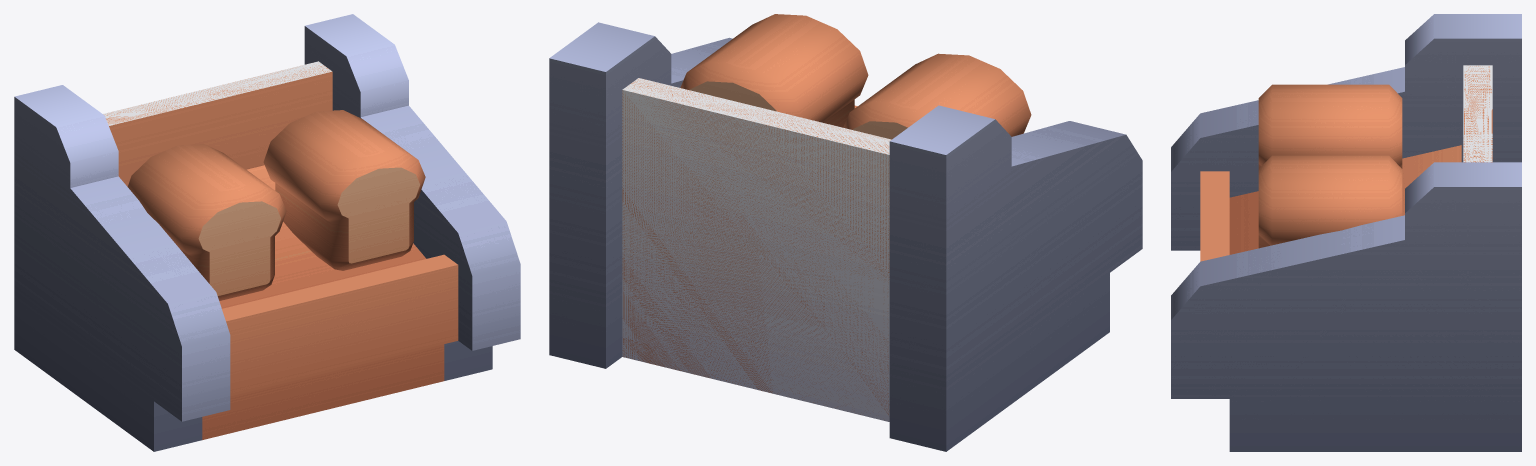
Rendered from display-bread.glb.
The picture shows the model from 3 angles, left to right: view 1: azimuth 30°, elevation 25°; view 2: azimuth 150°, elevation 25°; view 3: azimuth 270°, elevation 25°; orthographic projection. The views are drawn at different scales.
Visible parts, largest first — view 1: display-bread, bread, bread.001; view 2: display-bread, bread, bread.001; view 3: display-bread, bread, bread.001.
Part boxes in pixels (x1,y1,x2,y2): display-bread: (14,14,520,451); bread: (263,110,425,270); bread.001: (127,144,286,300); display-bread: (549,22,1142,451); bread: (680,14,868,127); bread.001: (843,53,1031,139); display-bread: (1171,14,1521,451); bread: (1258,155,1402,248); bread.001: (1258,84,1402,168).
Size of the model in its own units: 0.7 by 0.5 by 0.6.
1 material, 1 textured.
